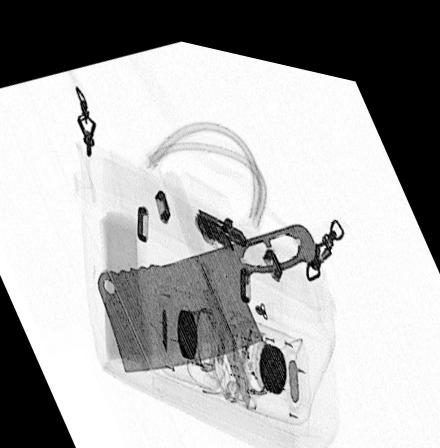Knife: (96, 208, 321, 366)
